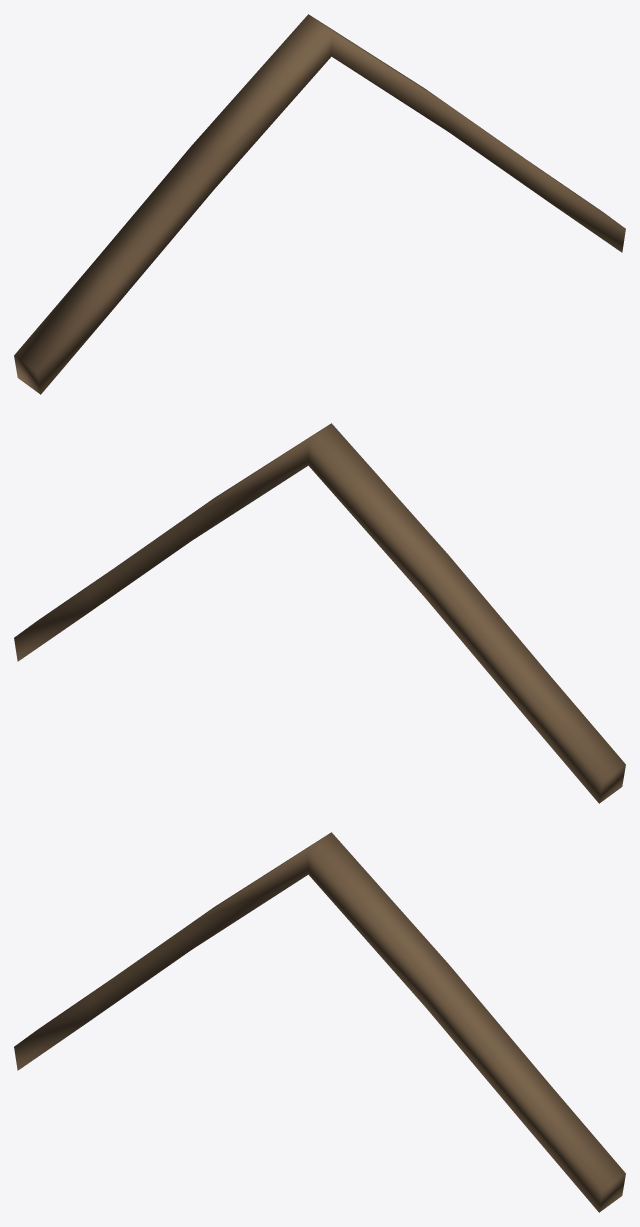
The model's file is rpgpp_av_roof_end_01_9x4_beam_a.gltf.
The picture shows the model from 3 angles, top to bottom: view 1: azimuth 30°, elevation 25°; view 2: azimuth 150°, elevation 25°; view 3: azimuth 330°, elevation 25°; orthographic projection.
Parts seen in each view (by area): view 1: rpgpp_av_roof_end_01_9x4_beam_a; view 2: rpgpp_av_roof_end_01_9x4_beam_a; view 3: rpgpp_av_roof_end_01_9x4_beam_a.
Part boxes in pixels (bbox=[...]): rpgpp_av_roof_end_01_9x4_beam_a: bbox=[14, 14, 625, 394]; rpgpp_av_roof_end_01_9x4_beam_a: bbox=[14, 423, 625, 803]; rpgpp_av_roof_end_01_9x4_beam_a: bbox=[14, 832, 625, 1212].
Bounding box in the file's own units: 0.096 × 0.0456 × 0.00654.
1 material, 1 textured.
